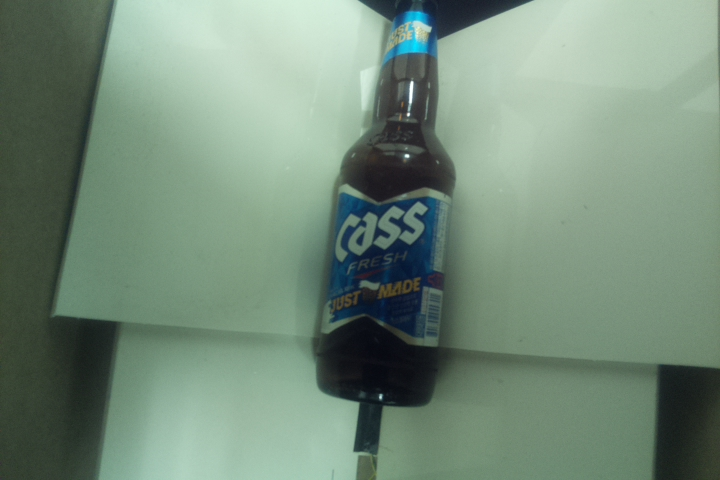makju: (305, 1, 457, 409)
